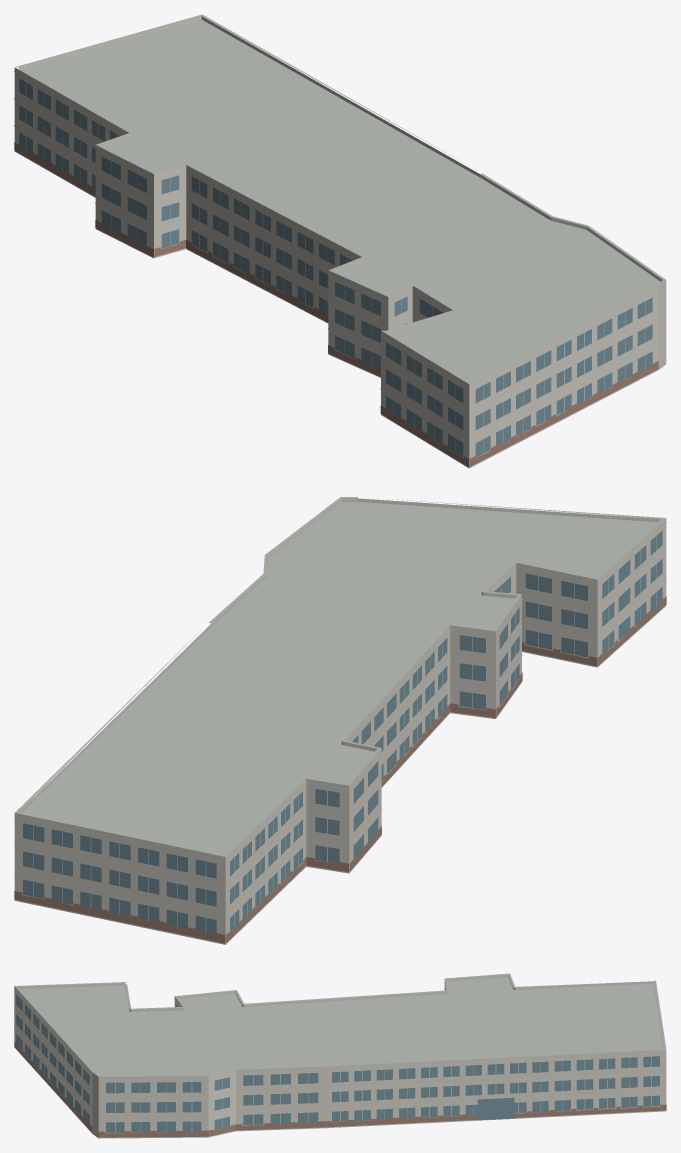
File: public-58801a2b-65a2-4234-935f-e67385213aff.glb
3 views of the same model, one above another, from view 1: azimuth 30°, elevation 25°; view 2: azimuth 150°, elevation 25°; view 3: azimuth 270°, elevation 25° (orthographic). The views are drawn at different scales.
Parts seen in each view (by area): view 1: public-58801a2b-65a2-4234-935f-e67385213aff; view 2: public-58801a2b-65a2-4234-935f-e67385213aff; view 3: public-58801a2b-65a2-4234-935f-e67385213aff.
Boxes of the visible parts, x1=… form: public-58801a2b-65a2-4234-935f-e67385213aff: x1=14, y1=14, x2=666, y2=468; public-58801a2b-65a2-4234-935f-e67385213aff: x1=14, y1=497, x2=666, y2=944; public-58801a2b-65a2-4234-935f-e67385213aff: x1=14, y1=973, x2=666, y2=1138.
Bounding box in the file's own units: 33.05 × 9.15 × 87.86.
